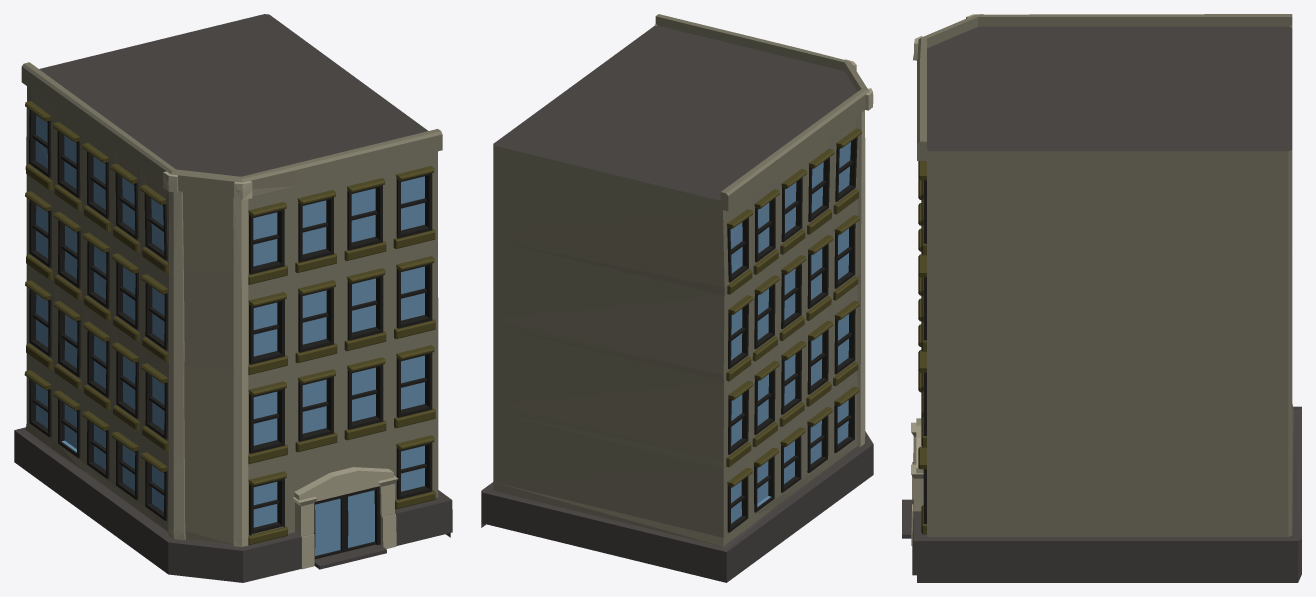
The model's file is Apartment 4.fbx.
3 renders of one model, left to right at view 1: azimuth 30°, elevation 25°; view 2: azimuth 150°, elevation 25°; view 3: azimuth 270°, elevation 25°, orthographic. The views are drawn at different scales.
Visible parts, largest first — view 1: pasted__pasted__pasted__pasted__pasted__pasted__pasted__pCub; view 2: pasted__pasted__pasted__pasted__pasted__pasted__pasted__pCub; view 3: pasted__pasted__pasted__pasted__pasted__pasted__pasted__pCub.
Part boxes in pixels (x1,y1,x2,y2): pasted__pasted__pasted__pasted__pasted__pasted__pasted__pCub: (14,14,452,582); pasted__pasted__pasted__pasted__pasted__pasted__pasted__pCub: (481,14,873,582); pasted__pasted__pasted__pasted__pasted__pasted__pasted__pCub: (902,14,1301,582).
Bounding box in the file's own units: 56.81 × 86.13 × 71.4.
